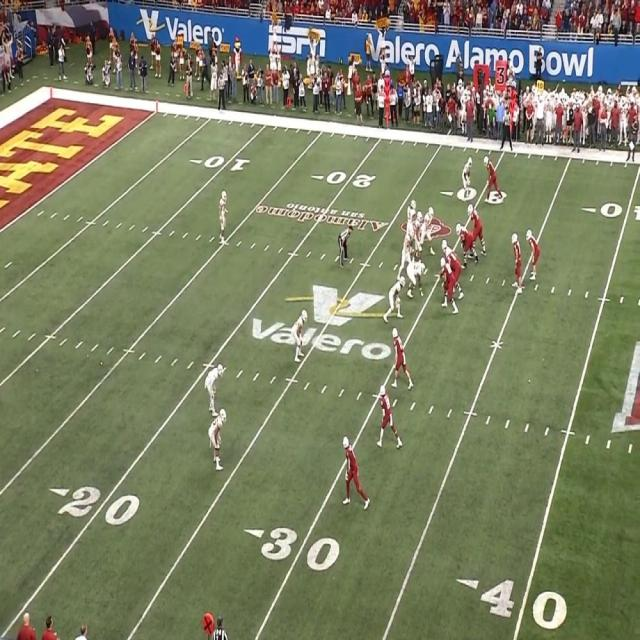center: (442, 239, 459, 262)
db: (208, 404, 229, 466), (291, 309, 307, 364), (205, 364, 223, 408), (217, 190, 228, 244), (462, 155, 472, 193)
lb: (398, 226, 416, 266), (406, 202, 416, 230)
qb: (512, 232, 522, 292)
